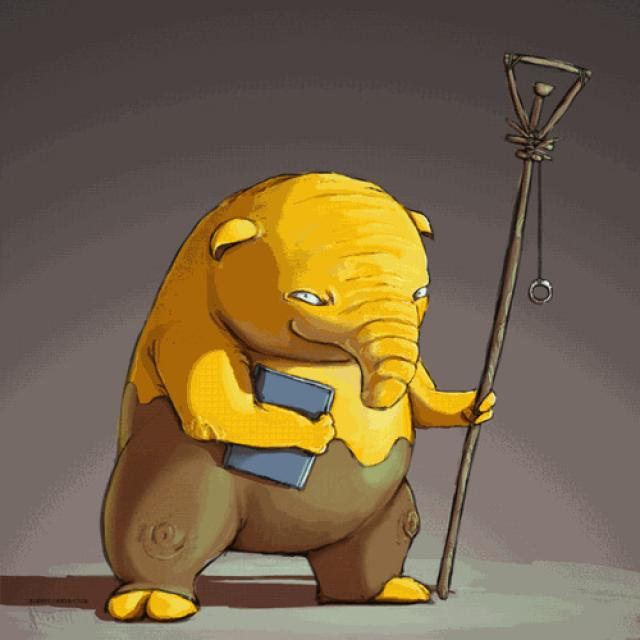Drowzee: (106, 176, 444, 623)
